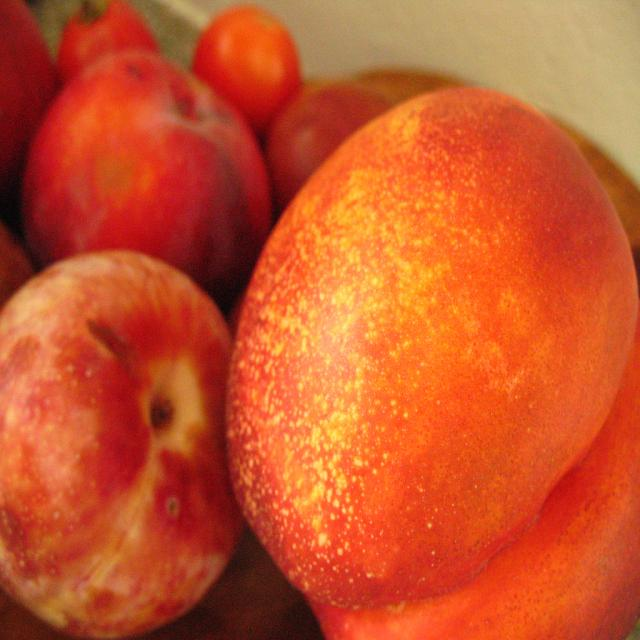Peach: (226, 86, 640, 639), (0, 250, 243, 640), (18, 53, 274, 311)
